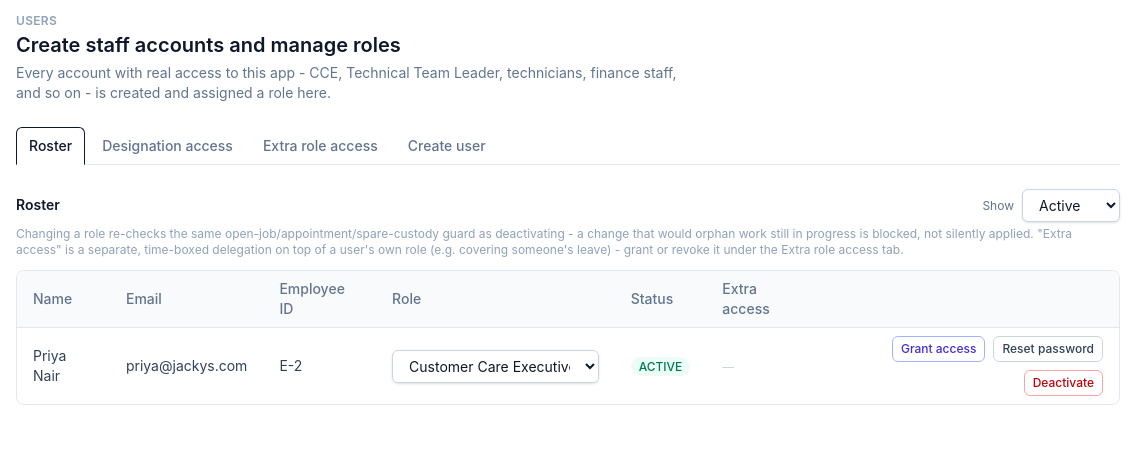
Test case: UsersPage - roster › surfaces a blocked role change or deactivation (open-assignment blockers) as an error notice
What coordinates should you click on to do the following:
click the button "Deactivate"
I would click on:
 (1063, 383)
Its box is [1024,370,1103,396].
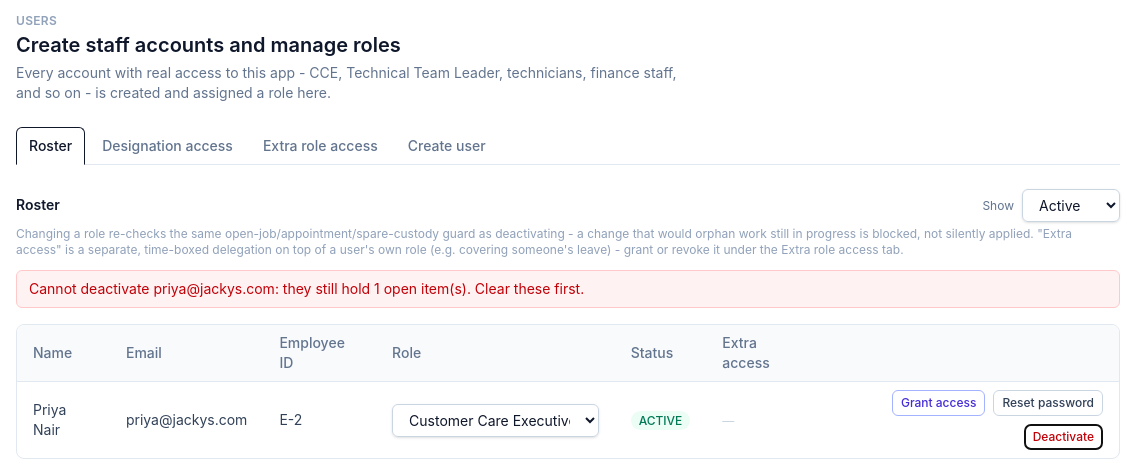
Now the text "still hold 1 open item" is shown, box [29,280,584,297]
